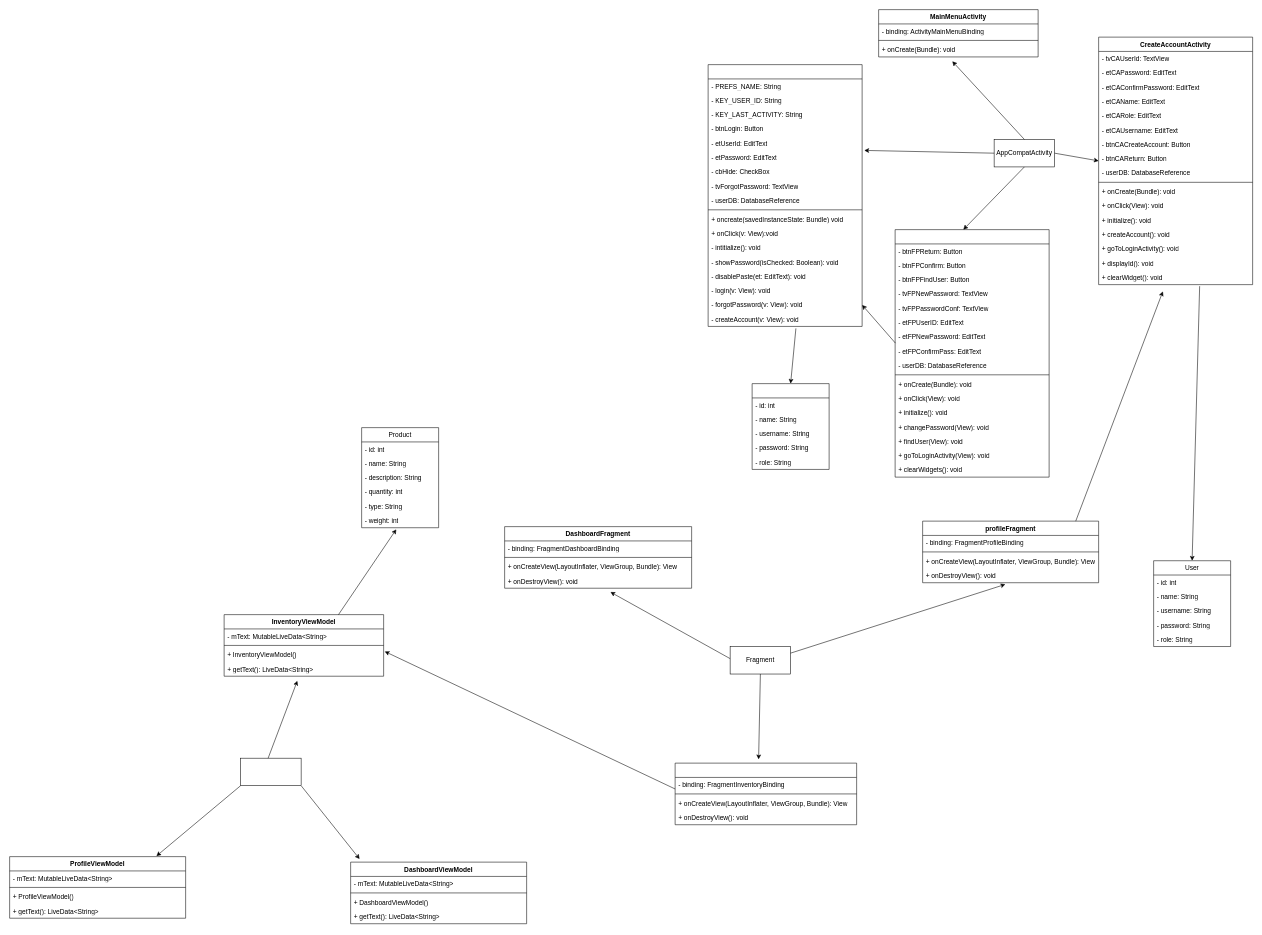
Some shapes in this 1262 by 935 pixel diagram are drawn without their labels. The box of each missing label's shape, as (x1, y1, x2, y2) in pixels:
ForgotActivity: (895, 229, 1049, 477)
InventoryViewFragment: (675, 763, 857, 825)
LoginActivity: (708, 64, 862, 326)
TestUser: (752, 383, 829, 469)
ViewModel: (240, 758, 301, 786)
